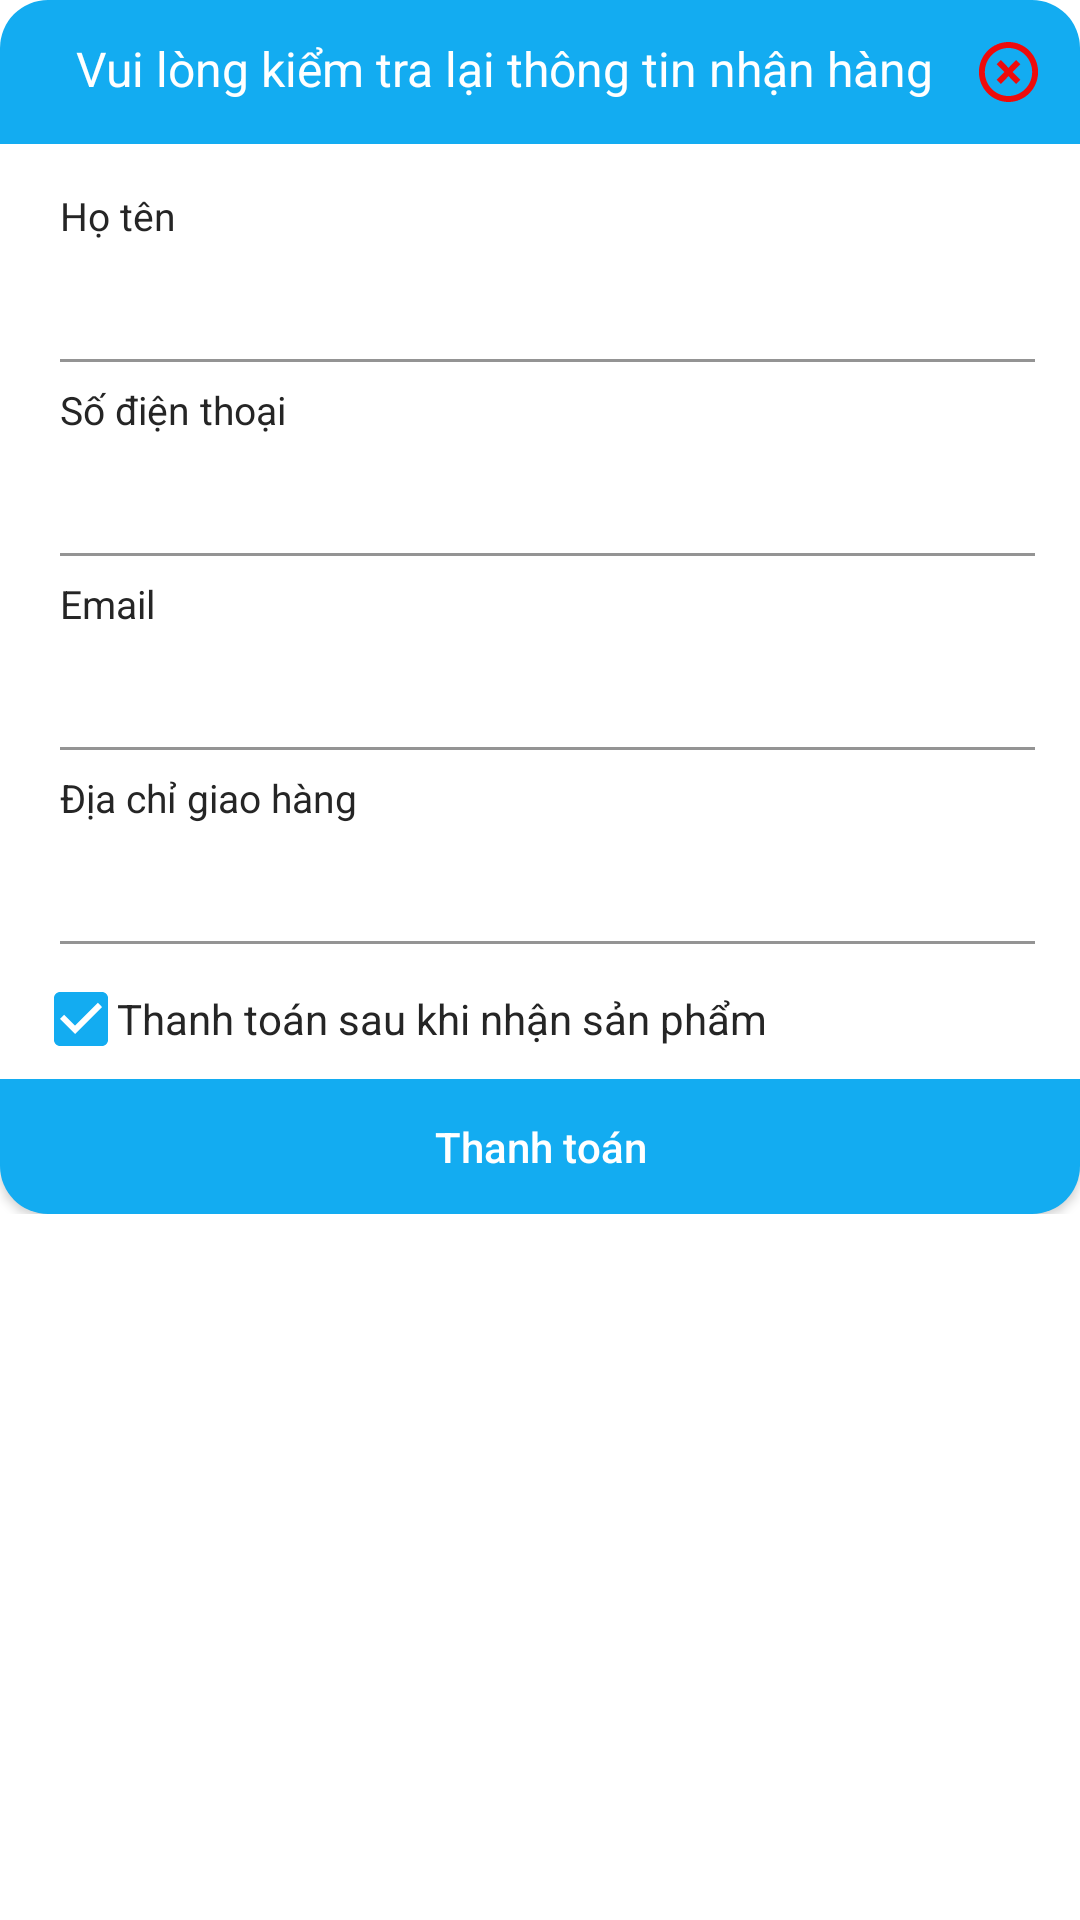

Locate icon controls on the screen. Image size 1080 × 1920, boxes as bbox=[x1, y1, x2, y2].
highlight off: bbox=[979, 42, 1038, 102]
